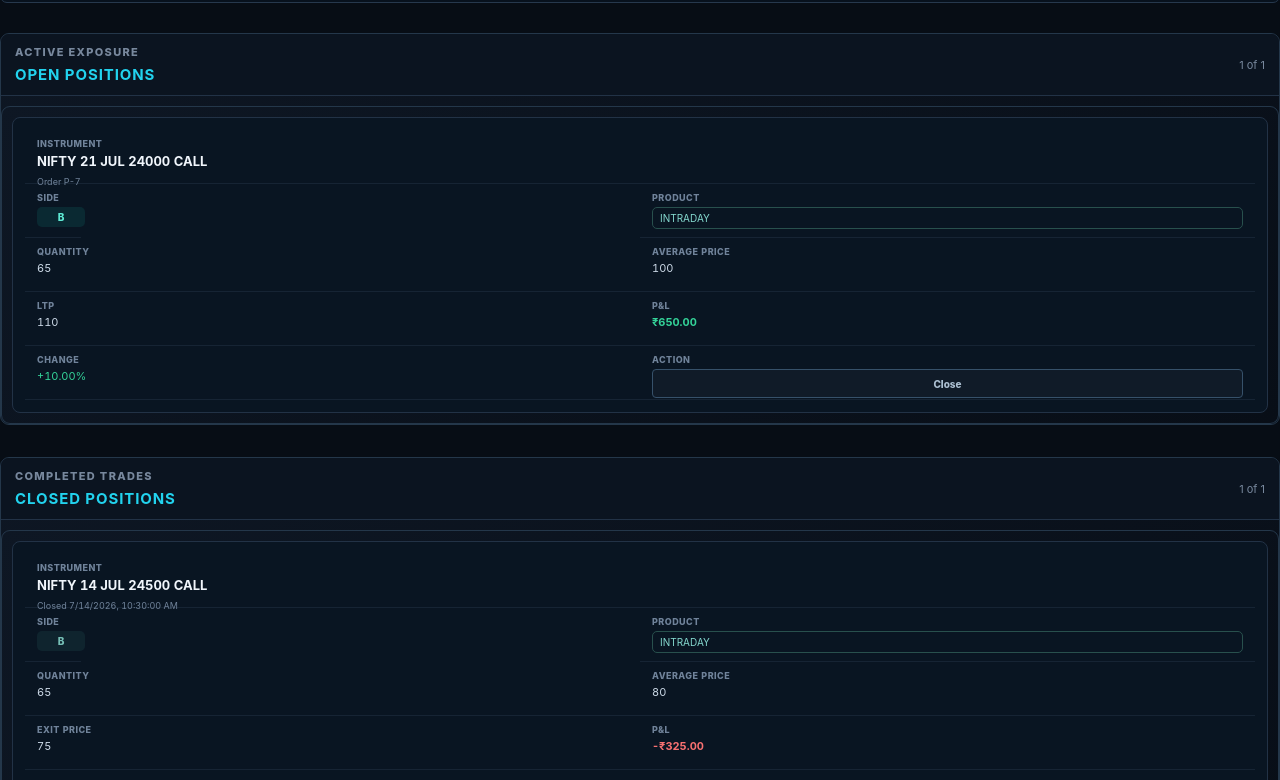
Scenario: position lifecycle › requires confirmation and closes the selected position through the exit API
The width and height of the screenshot is (1280, 780).
(page scrolled)
Click the button with aria-label "Close NIFTY 21 JUL 24000 CALL": (948, 384) [652,369,1243,398]
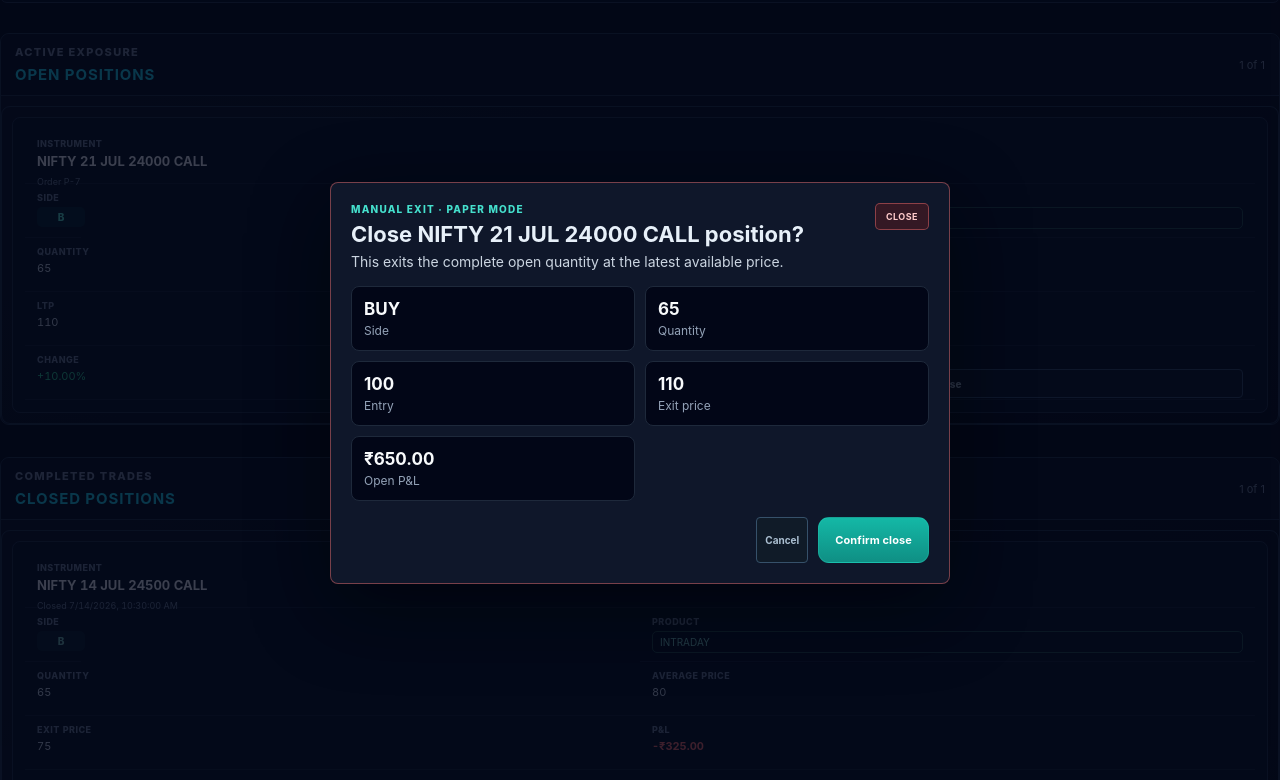
Result: the dialog "Close NIFTY 21 JUL 24000 CALL position?" is shown at [330,182,950,584]
Click the button "Confirm close": (874, 540) [818,517,929,563]
(page scrolled)
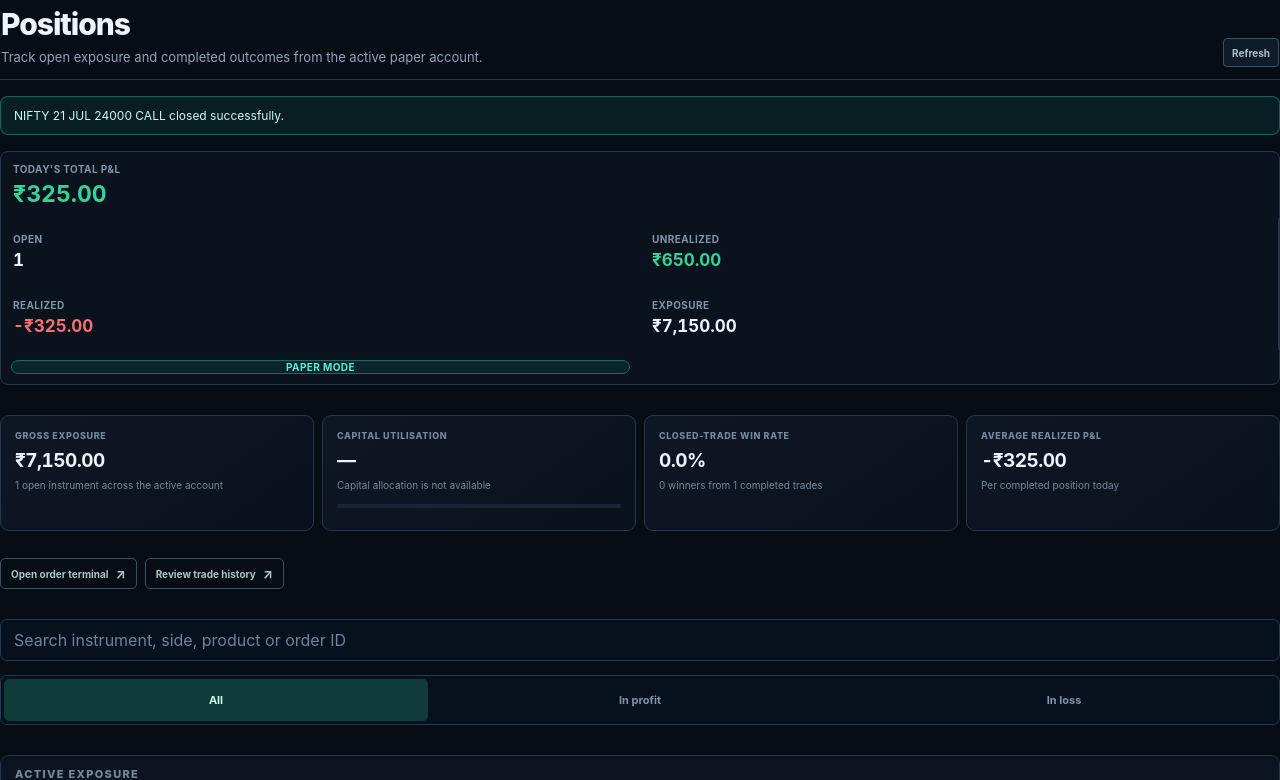
Result: the text "NIFTY 21 JUL 24000 CALL closed successfully." is shown at [0,96,1279,135]
